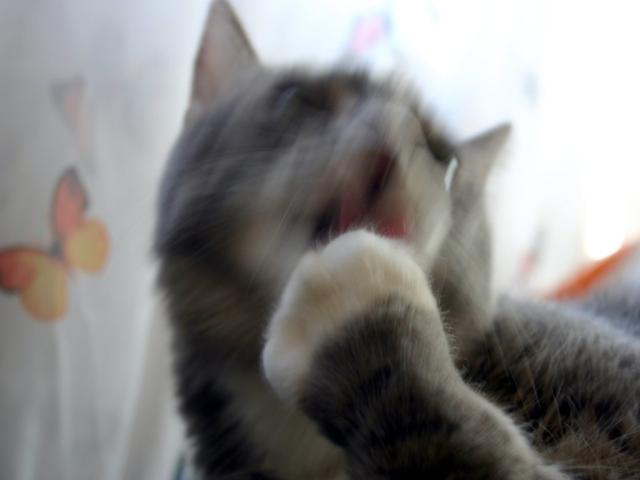Cat: (156, 0, 639, 475)
